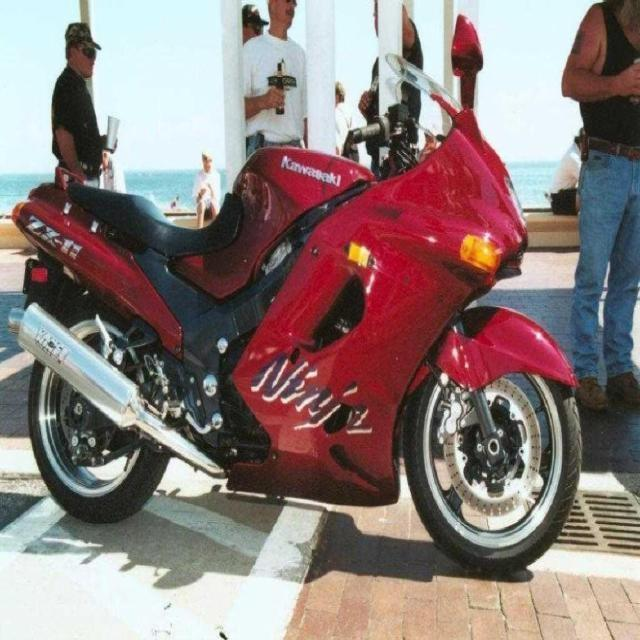Motorcycle: (6, 79, 579, 583)
